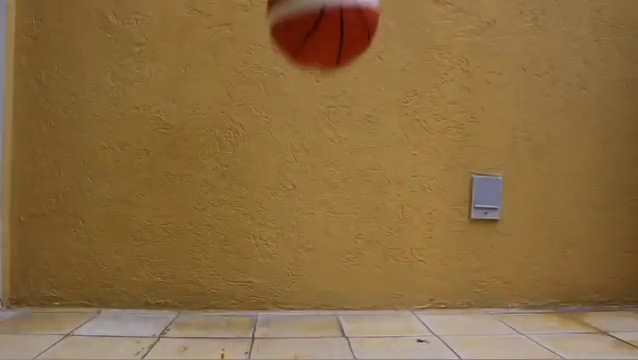ball: (264, 1, 387, 76)
